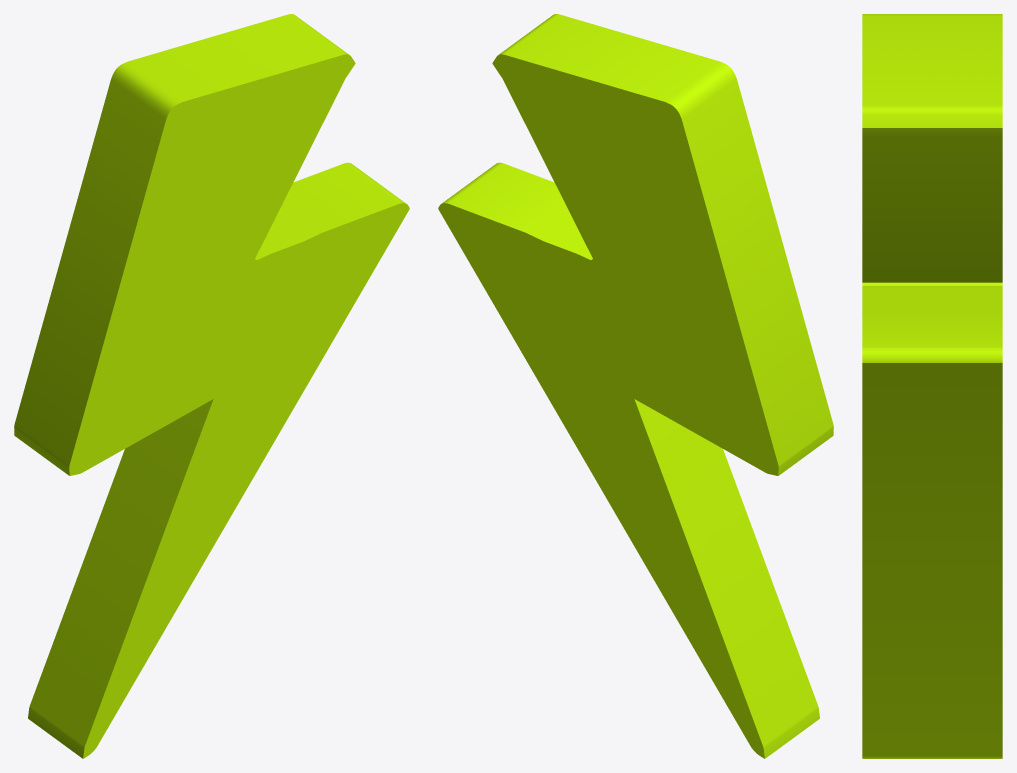
The model's file is rayo.glb.
The picture shows the model from 3 angles, left to right: view 1: azimuth 30°, elevation 25°; view 2: azimuth 150°, elevation 25°; view 3: azimuth 270°, elevation 25°; orthographic projection. The views are drawn at different scales.
Parts seen in each view (by area): view 1: Curve.003; view 2: Curve.003; view 3: Curve.003.
Boxes of the visible parts, box(x1,y1,x2,y2) form: Curve.003: box(14, 14, 409, 758); Curve.003: box(438, 14, 833, 758); Curve.003: box(862, 14, 1002, 758).
Bounding box in the file's own units: 0.6233 × 1.12 × 0.1749.
